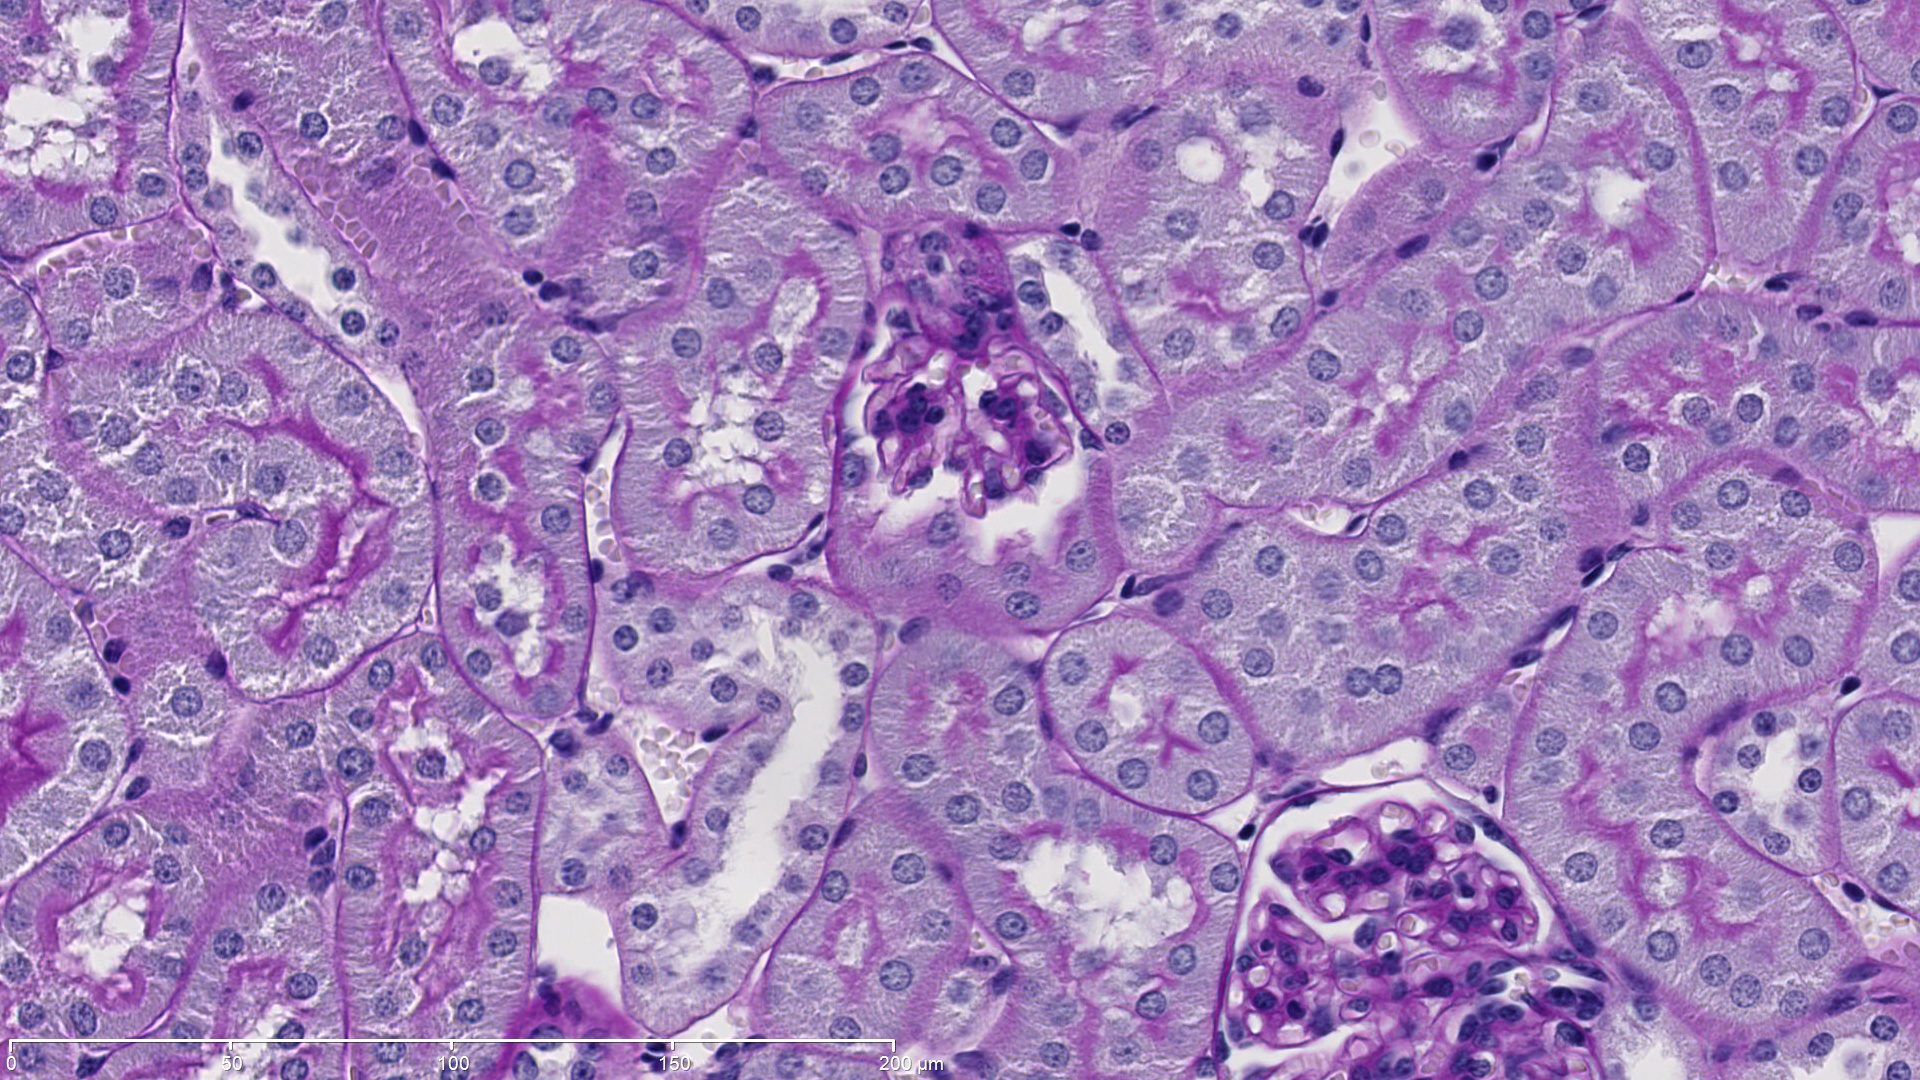Glomeruli: (1209, 774, 1640, 1077), (856, 215, 1088, 524)
